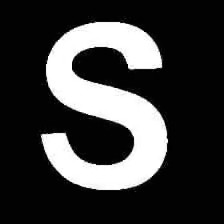LTR_S: (30, 12, 177, 194)
